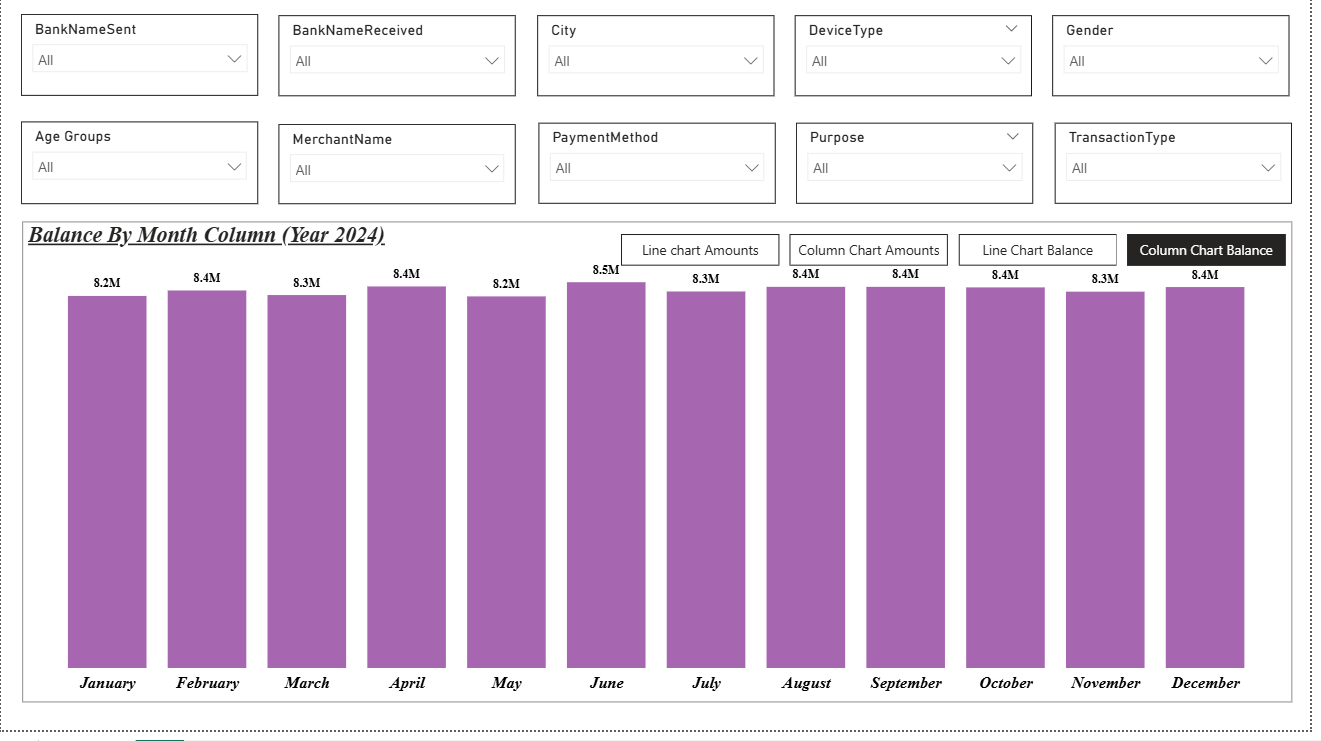

The dashboard page shown, as its layout file describes it:
{"tool":"powerbi","page":{"name":"Page 1","canvas":[1280,720],"ordinal":0},"visuals":[{"type":"slicer","fields":{"Values":["UPI transcations.BankNameSent"]},"box":[20,20,232,80],"z":0},{"type":"slicer","fields":{"Values":["UPI transcations.BankNameReceived"]},"box":[272,20.6,232,79],"z":1000},{"type":"slicer","fields":{"Values":["UPI transcations.City"]},"box":[524.2,20.6,232,79.6],"z":2000},{"type":"slicer","fields":{"Values":["UPI transcations.DeviceType"]},"box":[776,20.6,232,79.6],"z":3000},{"type":"slicer","fields":{"Values":["UPI transcations.Gender"]},"box":[1028,20.6,232,79.6],"z":4000},{"type":"slicer","fields":{"Values":["UPI transcations.Age Groups"]},"box":[19.2,124.9,231.9,81],"z":5000},{"type":"slicer","fields":{"Values":["UPI transcations.MerchantName"]},"box":[271.7,127.6,231.9,78.2],"z":6000},{"type":"slicer","fields":{"Values":["UPI transcations.PaymentMethod"]},"box":[525.6,126.2,231.9,79.6],"z":7000},{"type":"slicer","fields":{"Values":["UPI transcations.Purpose"]},"box":[778.3,126.1,232,79.6],"z":8000},{"type":"slicer","fields":{"Values":["UPI transcations.TransactionType"]},"box":[1030.3,126.1,232,79.6],"z":9000},{"type":"columnChart","title":"Balance By Month Column (Year 2024)","fields":{"Category":["UPI transcations.TransactionDate.Variation.Date Hierarchy.Month"],"Y":["Sum(UPI transcations.RemainingBalance)"]},"box":[20.6,222.2,1242.2,470.2],"z":12000},{"type":"bookmarkNavigator","box":[606.6,234.8,653.3,31.6],"z":14000}]}

Visuals, with their boxes in screenshot pixels (x1, y1, x2, y2), scaled from the page's 1280x720 canvas onto the 1321x741 screenshot:
slicer - UPI transcations.BankNameSent: locate(21, 21, 260, 103)
slicer - UPI transcations.BankNameReceived: locate(281, 21, 520, 103)
slicer - UPI transcations.City: locate(541, 21, 780, 103)
slicer - UPI transcations.DeviceType: locate(801, 21, 1040, 103)
slicer - UPI transcations.Gender: locate(1061, 21, 1300, 103)
slicer - UPI transcations.Age Groups: locate(20, 129, 259, 212)
slicer - UPI transcations.MerchantName: locate(280, 131, 520, 212)
slicer - UPI transcations.PaymentMethod: locate(542, 130, 782, 212)
slicer - UPI transcations.Purpose: locate(803, 130, 1043, 212)
slicer - UPI transcations.TransactionType: locate(1063, 130, 1303, 212)
"Balance By Month Column (Year 2024)" columnChart: locate(21, 229, 1303, 713)
bookmarkNavigator: locate(626, 242, 1300, 274)
